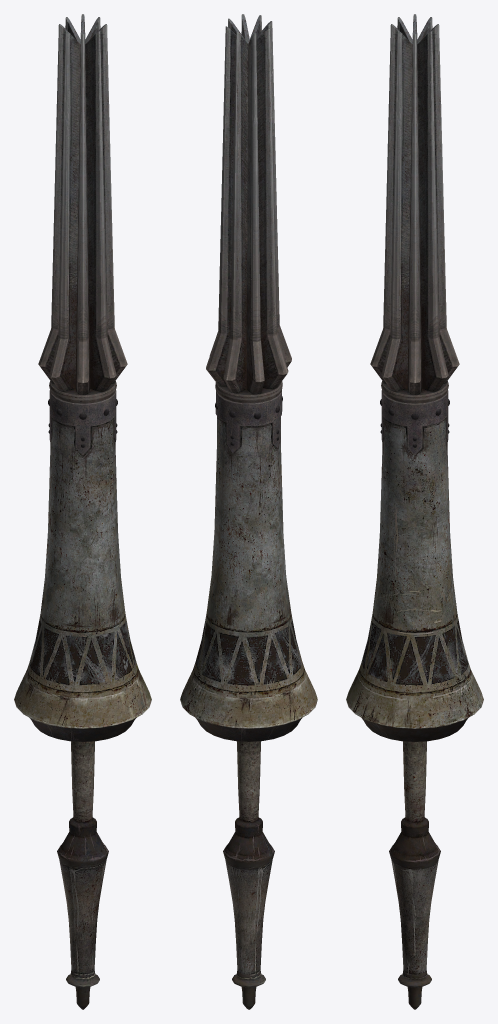
File: bs_lan003.obj
3 renders of one model, left to right at view 1: azimuth 90°, elevation 25°; view 2: azimuth 150°, elevation 25°; view 3: azimuth 270°, elevation 25°, orthographic.
Visible parts, largest first — view 1: bs_lan003_001_LOD_1, bs_lan003_003_LOD_1, bs_lan003_000_LOD_1, bs_lan003_004_LOD_1, bs_lan003_002_LOD_1; view 2: bs_lan003_001_LOD_1, bs_lan003_003_LOD_1, bs_lan003_000_LOD_1, bs_lan003_004_LOD_1, bs_lan003_002_LOD_1; view 3: bs_lan003_001_LOD_1, bs_lan003_003_LOD_1, bs_lan003_000_LOD_1, bs_lan003_004_LOD_1, bs_lan003_002_LOD_1.
Part boxes in pixels (x1,y1,x2,y2): bs_lan003_001_LOD_1: (14,390,151,741); bs_lan003_003_LOD_1: (51,14,114,341); bs_lan003_000_LOD_1: (57,741,108,1009); bs_lan003_004_LOD_1: (38,328,127,394); bs_lan003_002_LOD_1: (49,381,116,403); bs_lan003_001_LOD_1: (180,390,317,741); bs_lan003_003_LOD_1: (218,14,279,342); bs_lan003_000_LOD_1: (223,741,274,1009); bs_lan003_004_LOD_1: (206,325,291,394); bs_lan003_002_LOD_1: (215,381,282,403); bs_lan003_001_LOD_1: (346,390,483,741); bs_lan003_003_LOD_1: (383,14,446,341); bs_lan003_000_LOD_1: (389,741,440,1009); bs_lan003_004_LOD_1: (370,328,459,394); bs_lan003_002_LOD_1: (381,381,448,403).
Size of the model in its own units: 45.26 by 357 by 45.26.
